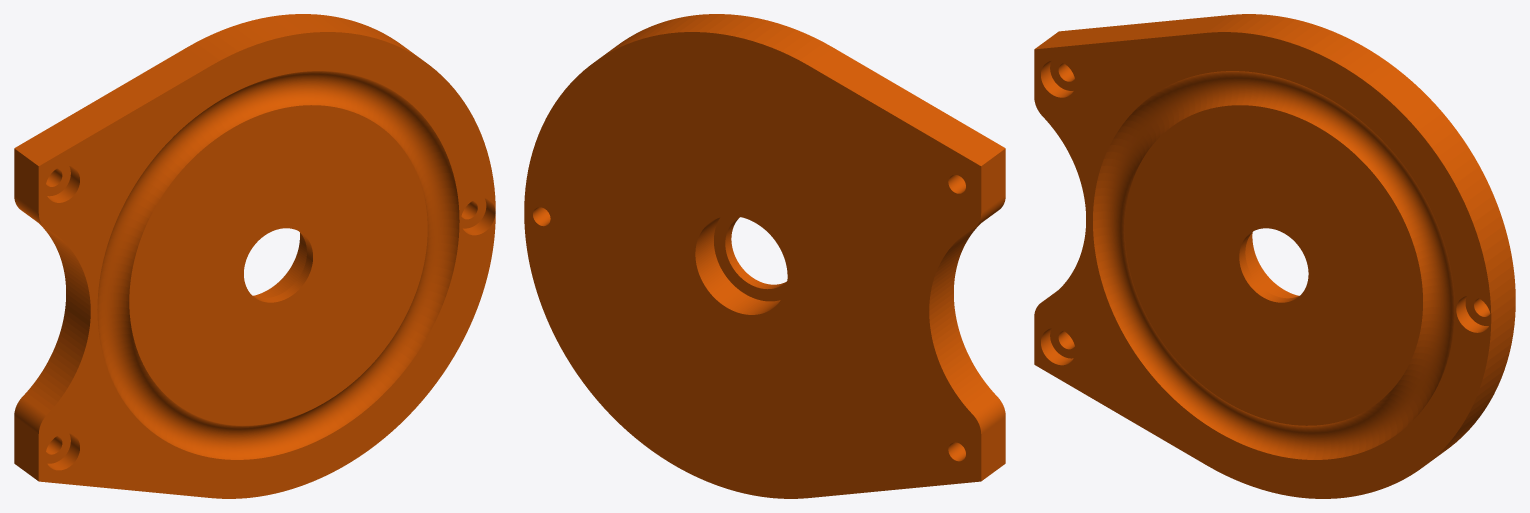
Rendered from EEZYbotARM_Mk2_013_lower_base_visual_vis_1.dae.
3 renders of one model, left to right at view 1: azimuth 30°, elevation 25°; view 2: azimuth 150°, elevation 25°; view 3: azimuth 330°, elevation 25°, orthographic.
Visible parts, largest first — view 1: node; view 2: node; view 3: node.
Part boxes in pixels (bbox=[...]): node: bbox=[14, 14, 495, 498]; node: bbox=[524, 14, 1005, 498]; node: bbox=[1034, 14, 1515, 498].
Size of the model in its own units: 0.0858 by 0.0816 by 0.008.
